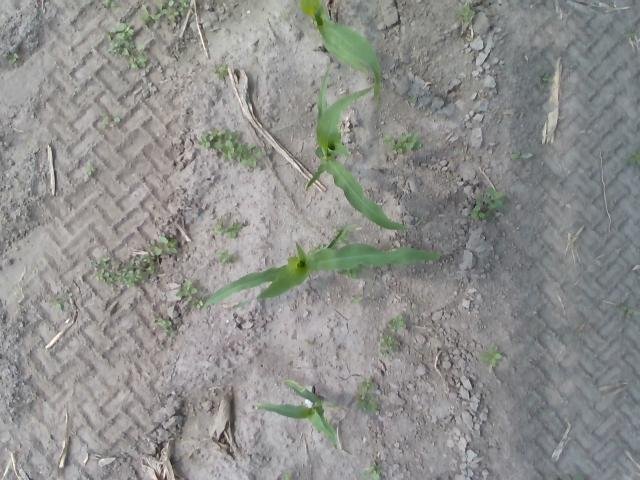Maize: (199, 227, 442, 306), (306, 70, 410, 230), (300, 0, 380, 100), (255, 379, 336, 440)
Weeds: (203, 128, 258, 168), (92, 260, 157, 287), (141, 0, 187, 24), (356, 380, 381, 412), (109, 22, 133, 54), (392, 130, 418, 154), (477, 186, 502, 210), (214, 221, 244, 238), (379, 330, 402, 352), (152, 236, 178, 255), (178, 280, 198, 300), (480, 346, 502, 364), (212, 250, 238, 262), (364, 460, 380, 478), (460, 5, 475, 24), (132, 52, 148, 69), (465, 204, 484, 218), (387, 314, 405, 328), (512, 150, 532, 162), (157, 314, 173, 328), (4, 50, 19, 64), (210, 64, 227, 76), (104, 116, 122, 125), (84, 164, 94, 180), (541, 72, 552, 86), (631, 150, 640, 165), (56, 298, 69, 308), (350, 294, 362, 303), (104, 0, 115, 6)
